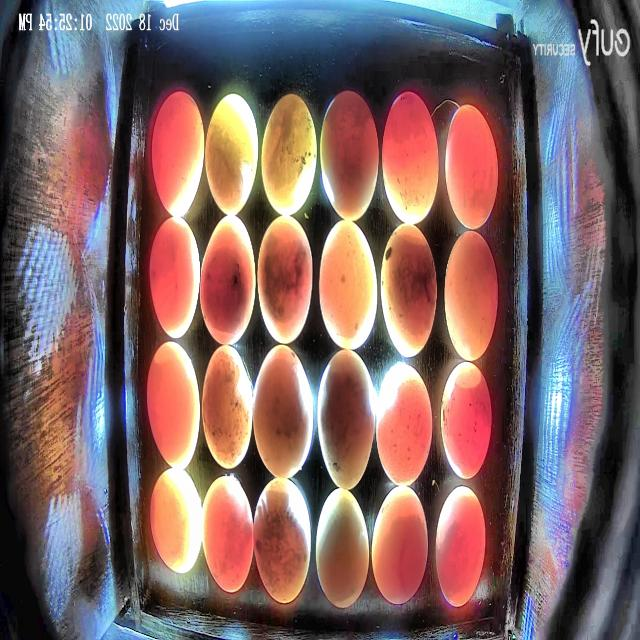DE: (253, 344, 313, 478), (317, 350, 375, 488), (321, 89, 379, 222), (380, 222, 437, 357), (382, 93, 440, 224), (319, 219, 377, 350), (254, 476, 312, 603), (257, 215, 314, 344), (200, 215, 256, 346), (445, 230, 499, 362), (376, 361, 433, 485), (146, 342, 200, 471), (261, 92, 318, 214), (152, 91, 206, 218), (445, 105, 500, 229), (371, 485, 428, 604), (205, 94, 258, 216), (316, 487, 369, 608), (201, 345, 253, 468), (150, 216, 202, 338), (435, 486, 487, 606), (441, 361, 492, 479), (202, 477, 253, 593), (150, 468, 202, 574)
